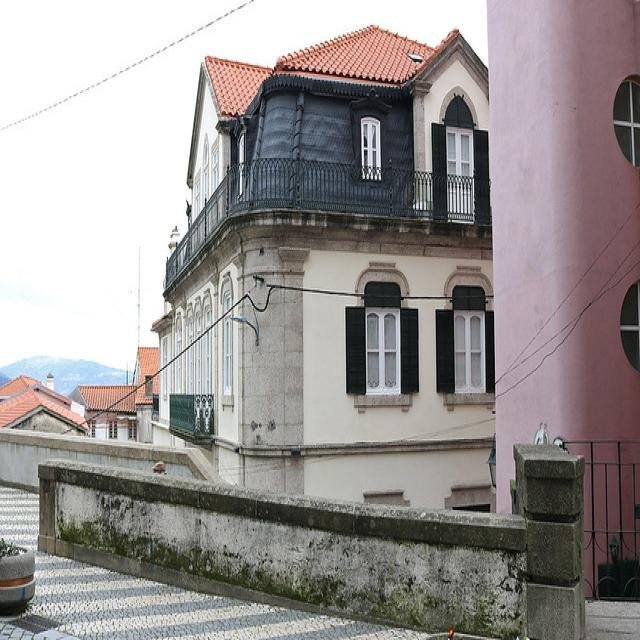Normal_building: (144, 18, 498, 520)
